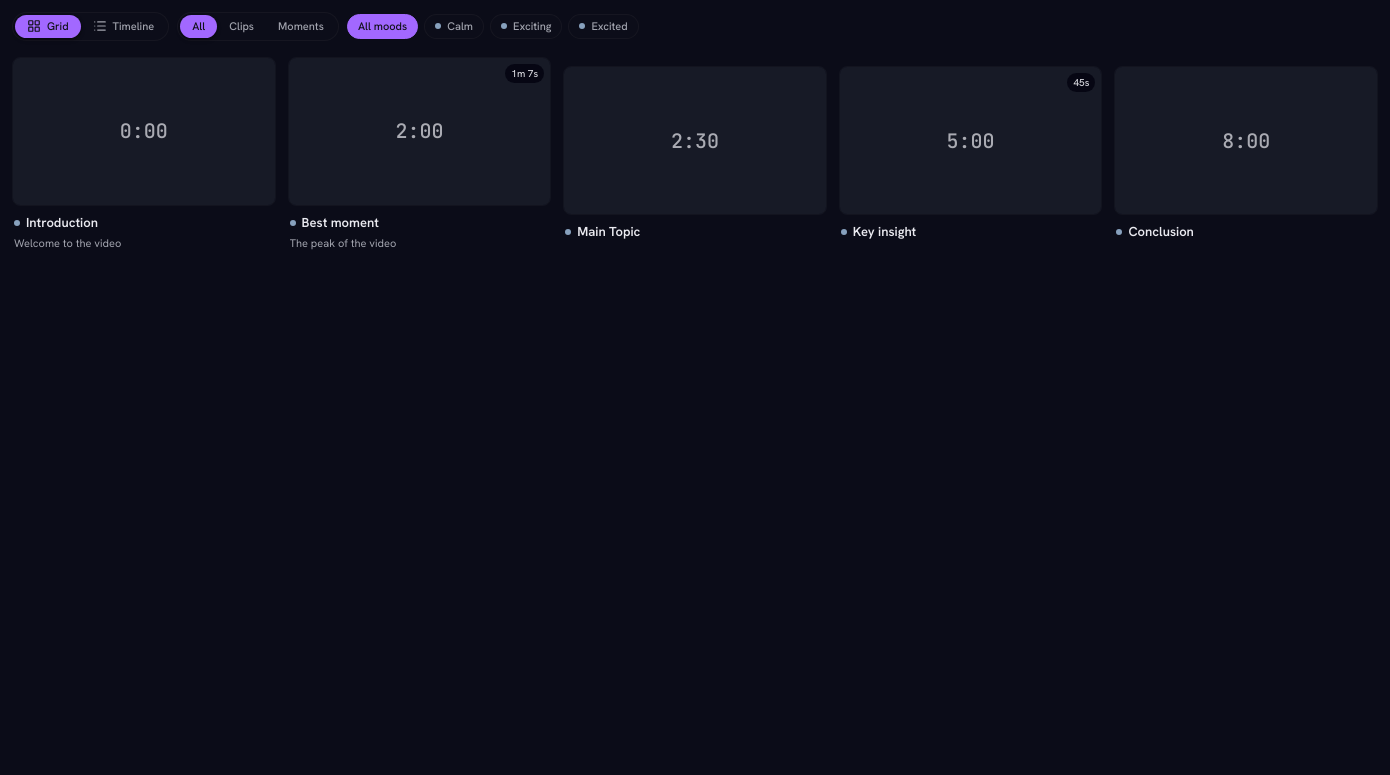
Test case: MomentTrack › timeline view › filters to clips only when Clips is pressed
What coordinates should you click on to do the following:
click the button with test id "view-timeline"
I would click on:
 (123, 26)
Its box is [81, 15, 166, 38].
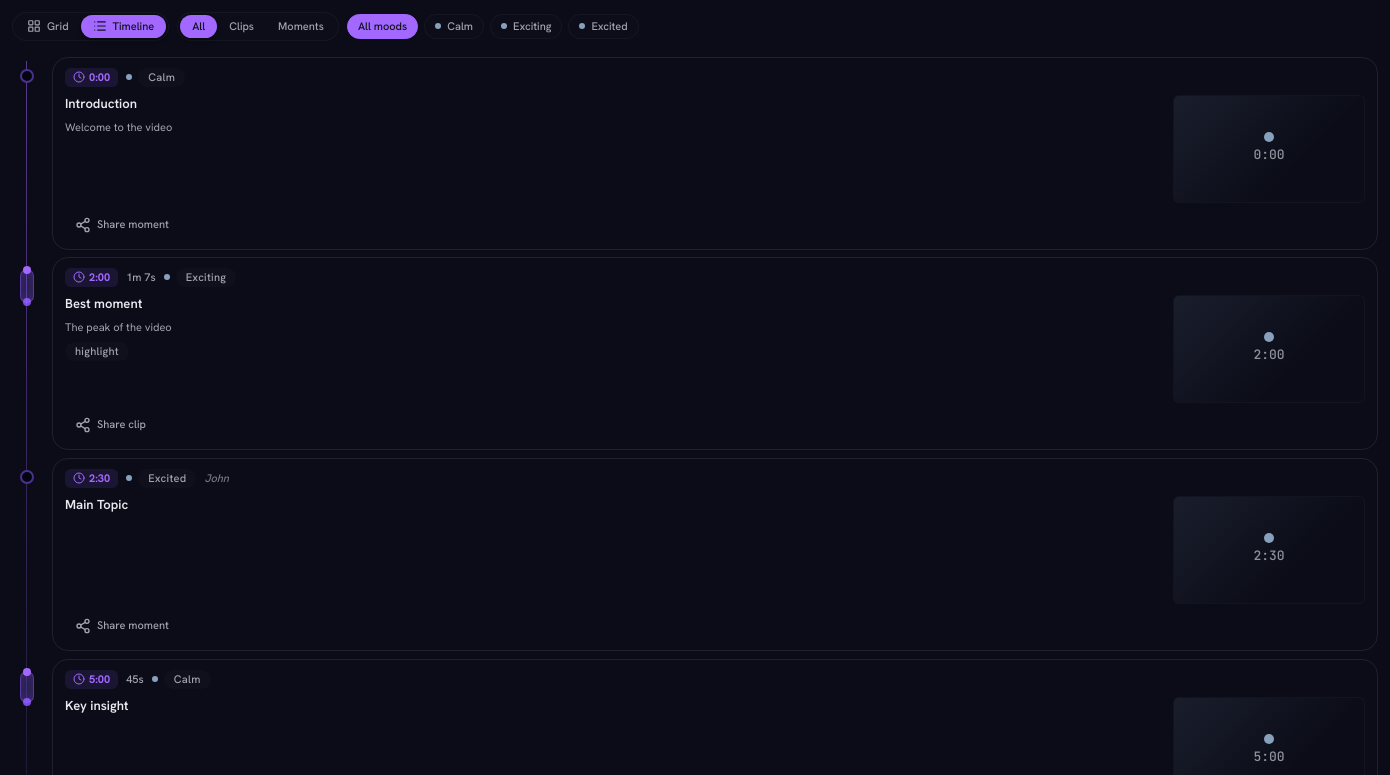
What coordinates should you click on to do the following:
click the button with test id "type-filter-clips"
I would click on:
 (242, 26)
Its box is [217, 15, 266, 38].
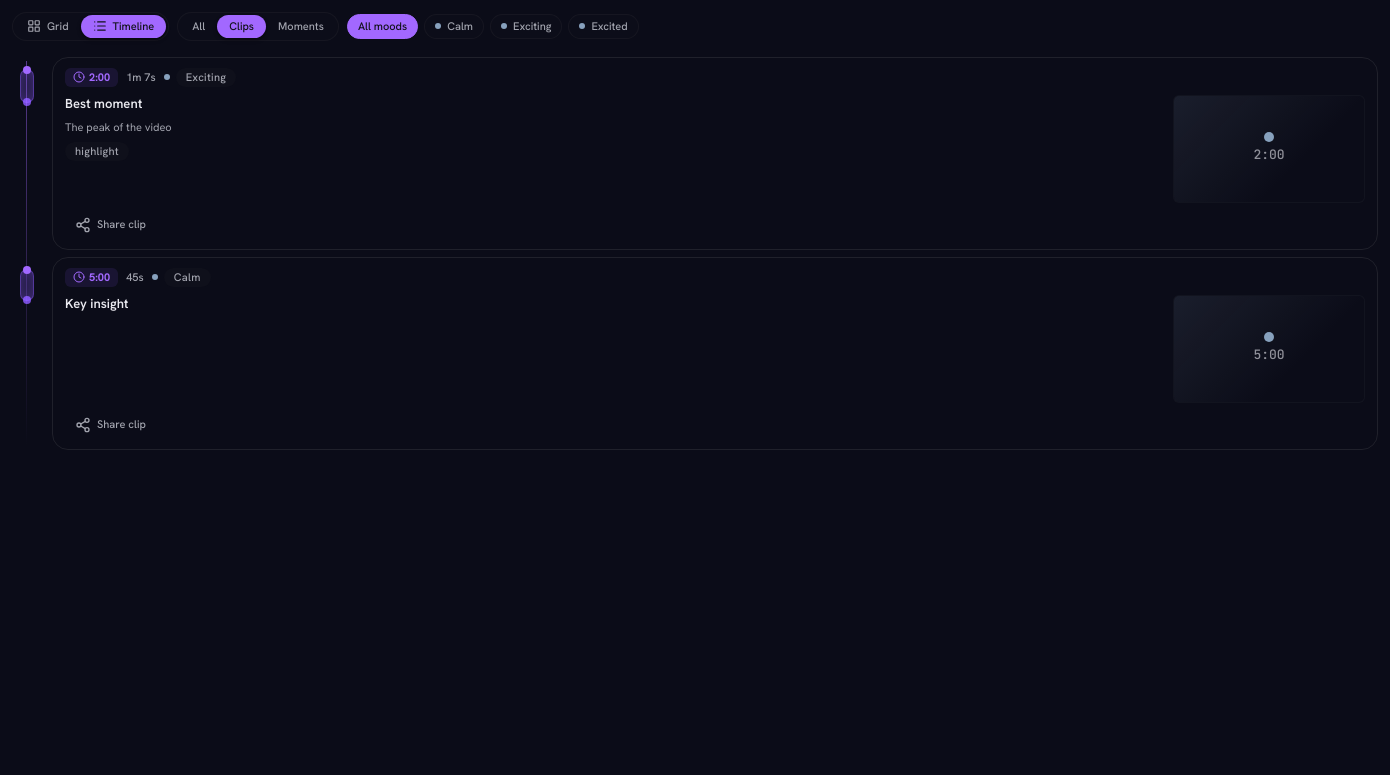
Expected: the text "Best moment" is shown, [65, 94, 142, 111]
Expected: the text "Introduction" is gone
